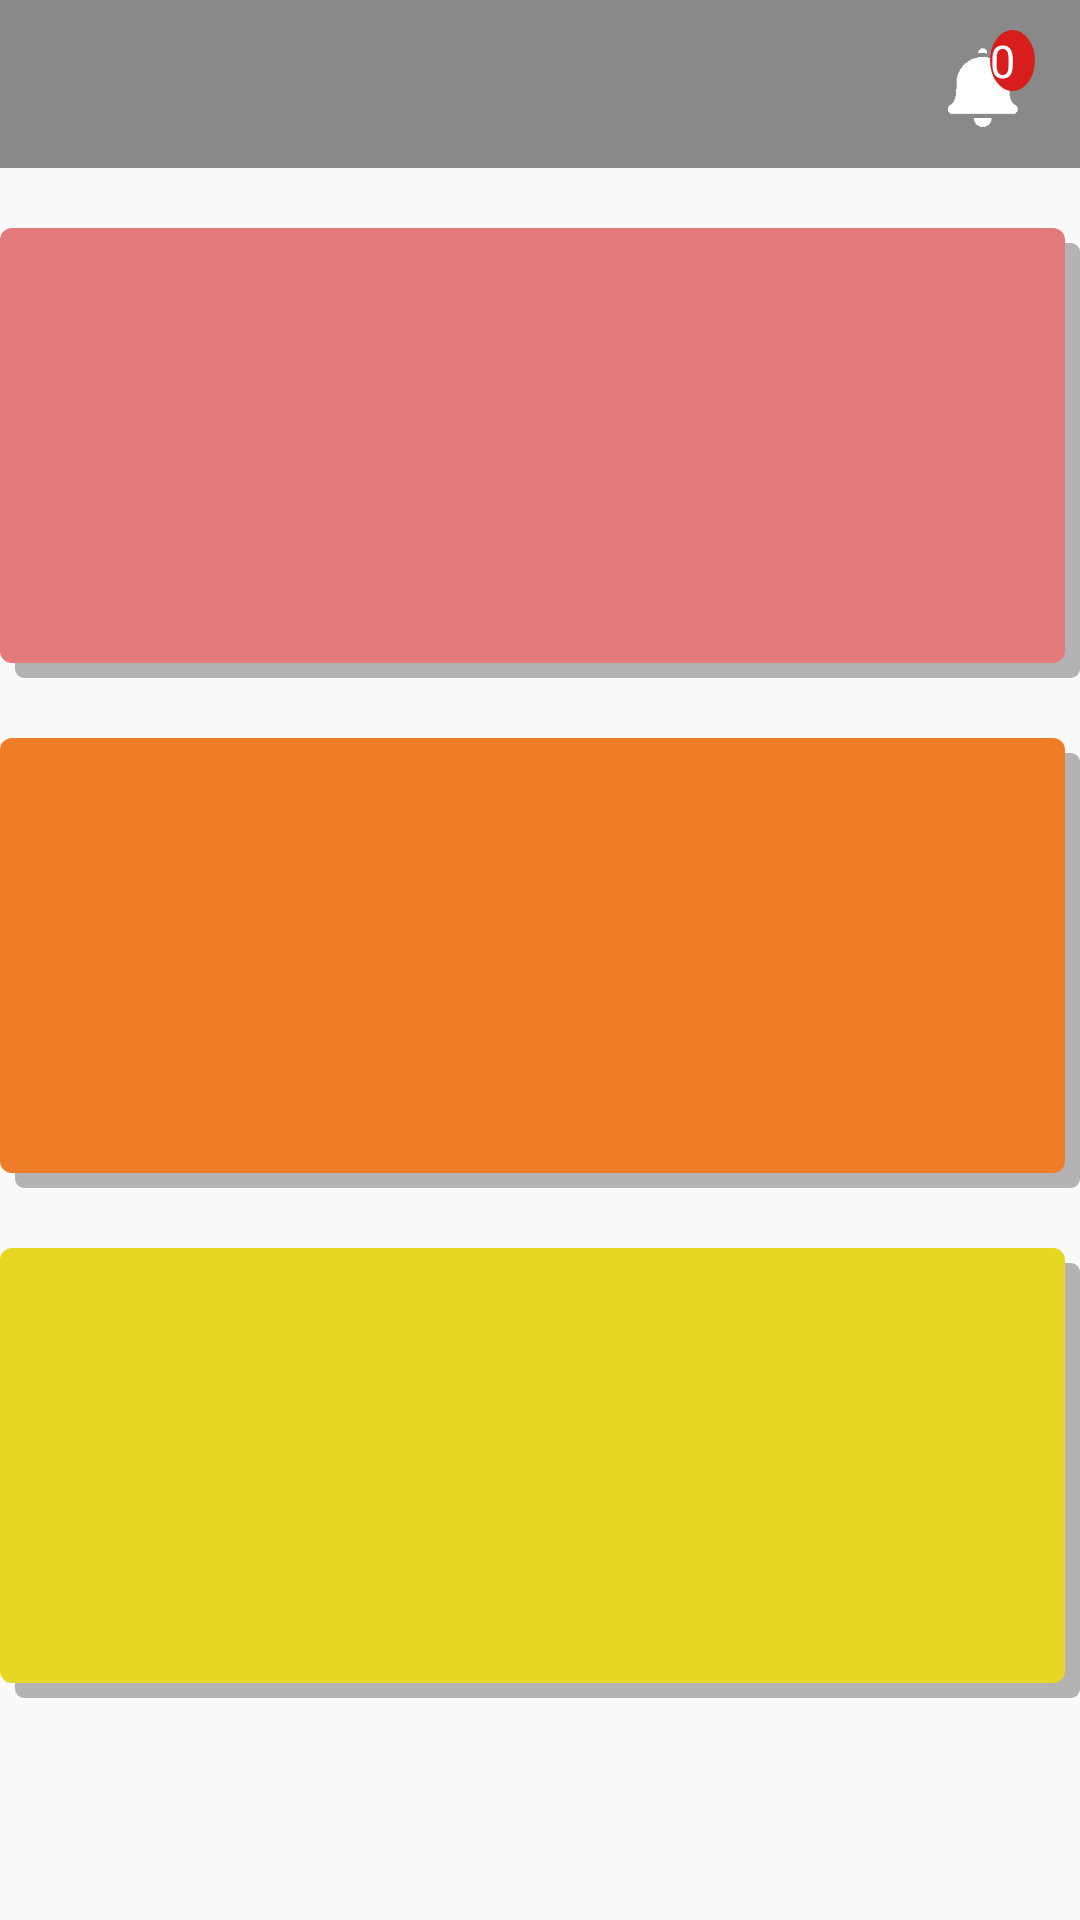

Icons on this 1080×1920 Android screen, each with its box as (x1, y1, x2, y2):
notification: (948, 30, 1035, 127)
